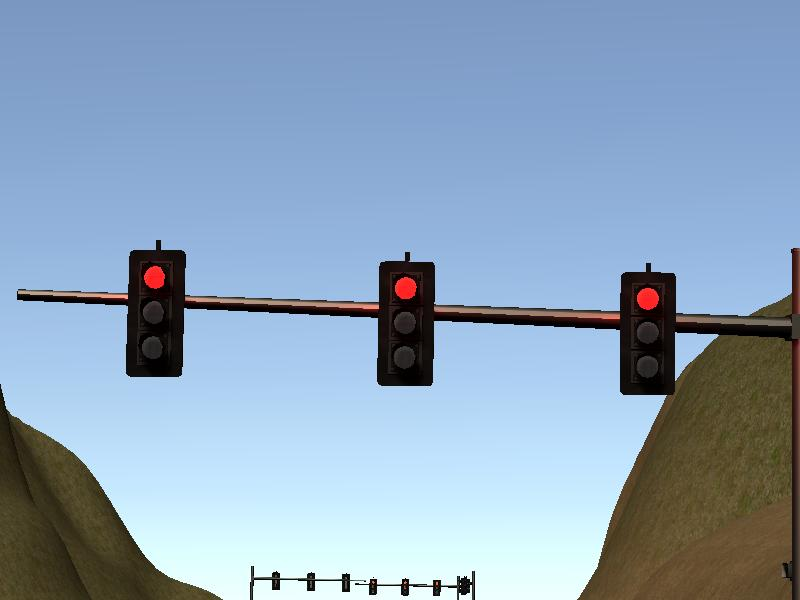Red: (378, 261, 433, 384), (130, 250, 184, 374), (621, 272, 674, 393)
